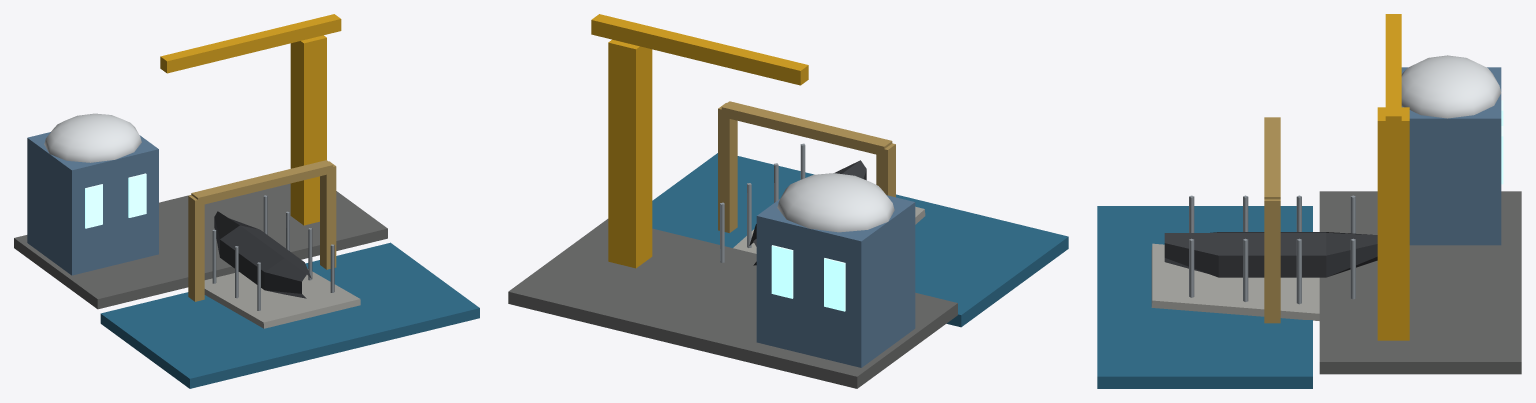
Rendered from bld_special_shipyard_a10.glb.
The picture shows the model from 3 angles, left to right: view 1: azimuth 30°, elevation 25°; view 2: azimuth 150°, elevation 25°; view 3: azimuth 270°, elevation 25°; orthographic projection. The views are drawn at different scales.
Visible parts, largest first — view 1: body, crane; view 2: body, crane; view 3: body, crane.
Part boxes in pixels (bbox=[...]): body: bbox=[14, 113, 479, 388]; crane: bbox=[160, 14, 341, 225]; body: bbox=[508, 101, 1068, 388]; crane: bbox=[591, 14, 808, 268]; body: bbox=[1097, 55, 1521, 388]; crane: bbox=[1377, 14, 1409, 340].
Size of what is drawn, in the model's own units: 15 by 10.7 by 15.75.
